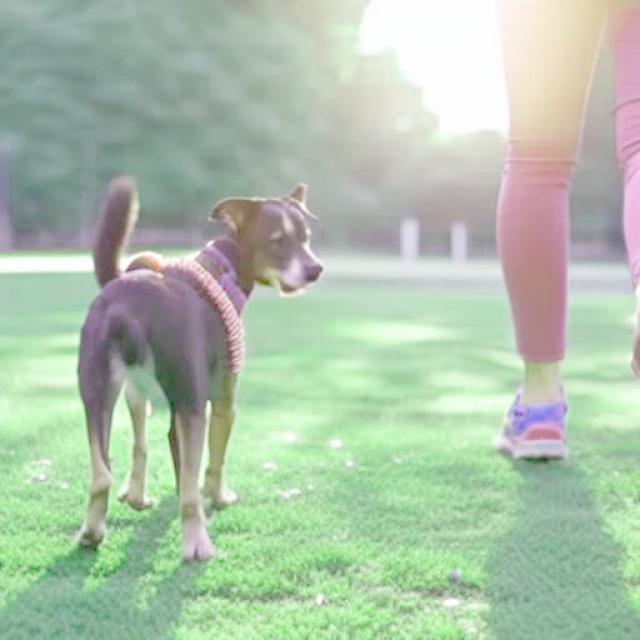Unleashed_Dog: (72, 0, 617, 568)
